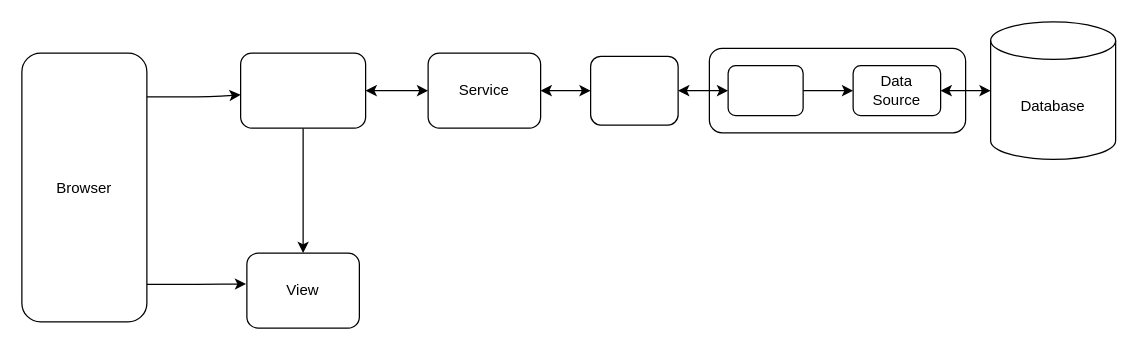
Some shapes in this 1138 by 350 pixel diagram are drawn without their labels. Here are the shapes that lost their labels. From the top down, the centre of each, then its label:
At point (302, 90): "Controller".
At point (633, 90): "DAO".
At point (765, 90): "Session Factory".
